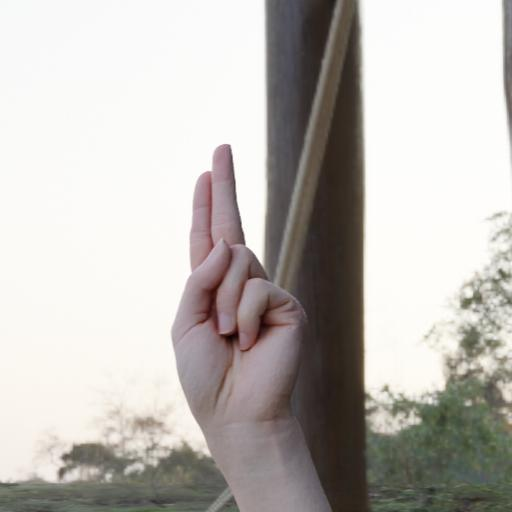U: (145, 130, 330, 453)
